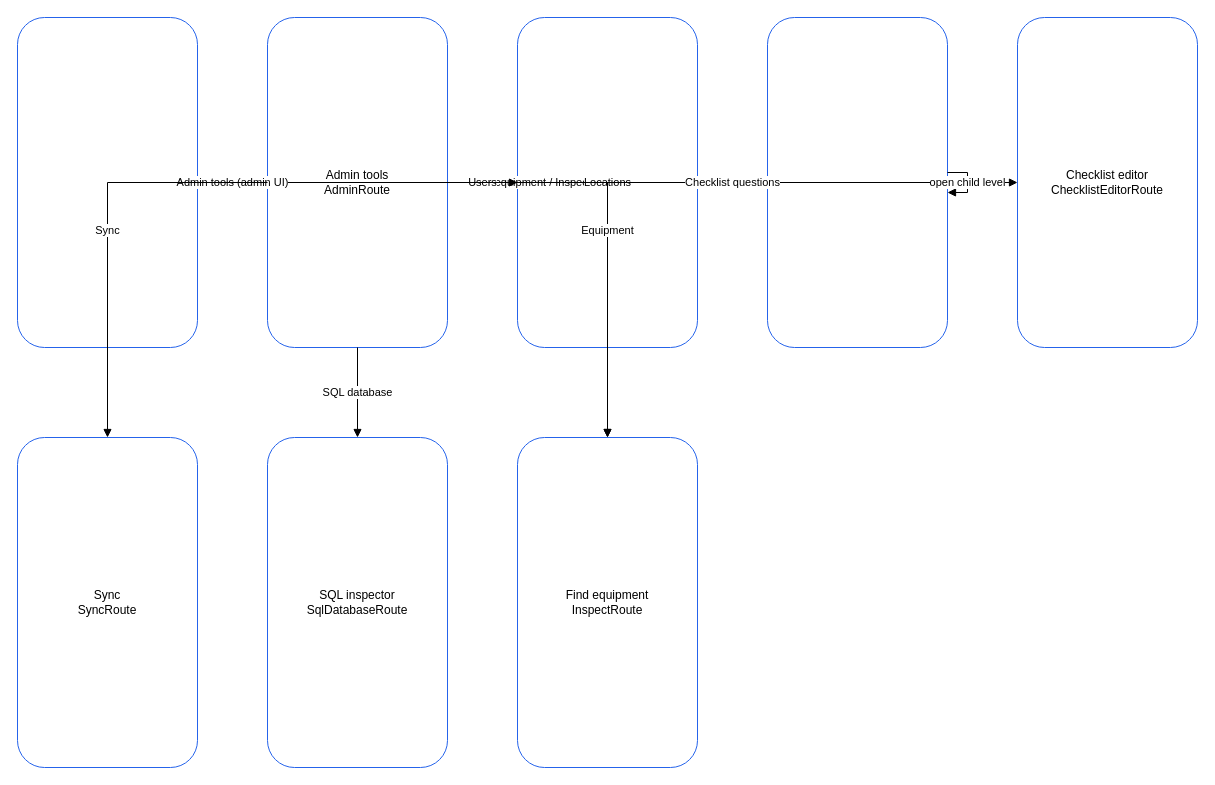
Some shapes in this 1215 by 785 pixel diagram are drawn without their labels. The shapes that lost their labels are listed below. From the top down, each one's box as (x1, y1, x2, y2) in pixels, then its label:
(16, 16, 198, 348): Home dashboard DashboardRoute
(516, 16, 698, 348): Users UsersRoute
(766, 16, 948, 348): Locations LocationsRoute
